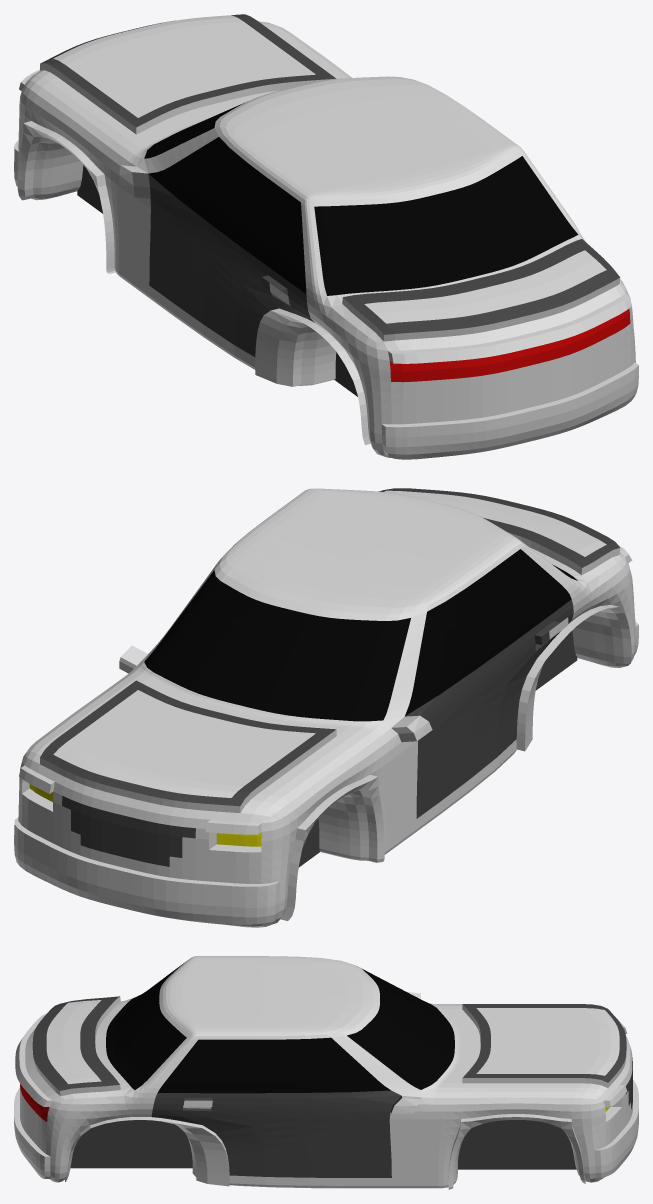
The model's file is my_car_chassis.dae.
3 renders of one model, top to bottom at view 1: azimuth 30°, elevation 25°; view 2: azimuth 150°, elevation 25°; view 3: azimuth 270°, elevation 25°, orthographic. The views are drawn at different scales.
Visible parts, largest first — view 1: Cube_002; view 2: Cube_002; view 3: Cube_002.
Part boxes in pixels (x1,y1,x2,y2): Cube_002: (14,14,638,459); Cube_002: (14,488,638,927); Cube_002: (14,956,638,1189).
Bounding box in the file's own units: 1.79 × 4.28 × 1.12.
